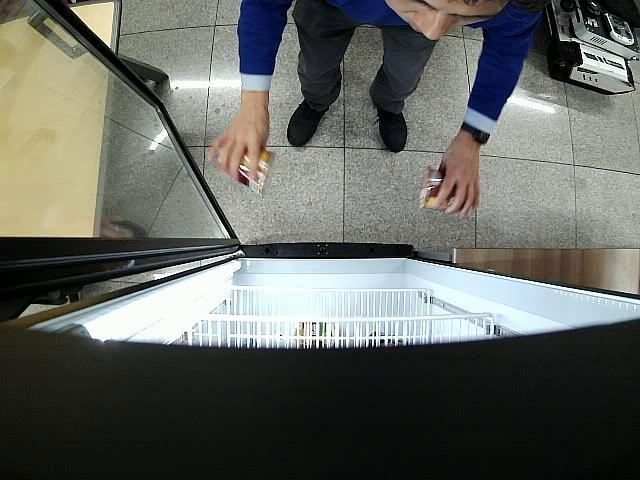06_nuguri_S: (239, 146, 276, 194), (420, 166, 455, 211)
